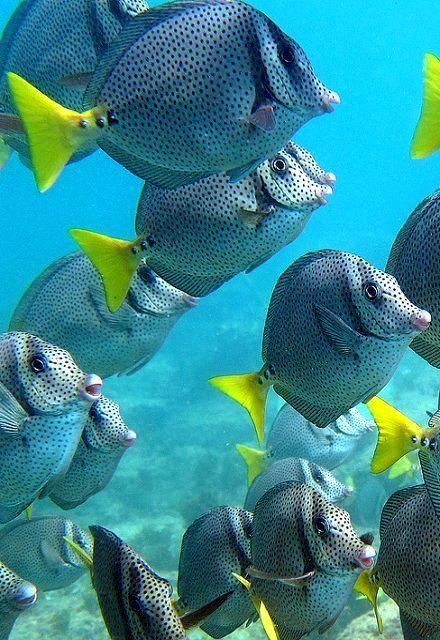fish: (7, 0, 339, 193), (72, 145, 332, 312), (209, 248, 431, 443), (0, 0, 150, 167), (9, 251, 199, 381), (232, 480, 375, 640), (0, 333, 104, 524), (64, 521, 187, 640), (38, 395, 139, 512), (238, 401, 374, 487), (178, 509, 260, 640), (386, 187, 440, 367), (378, 484, 440, 634)
